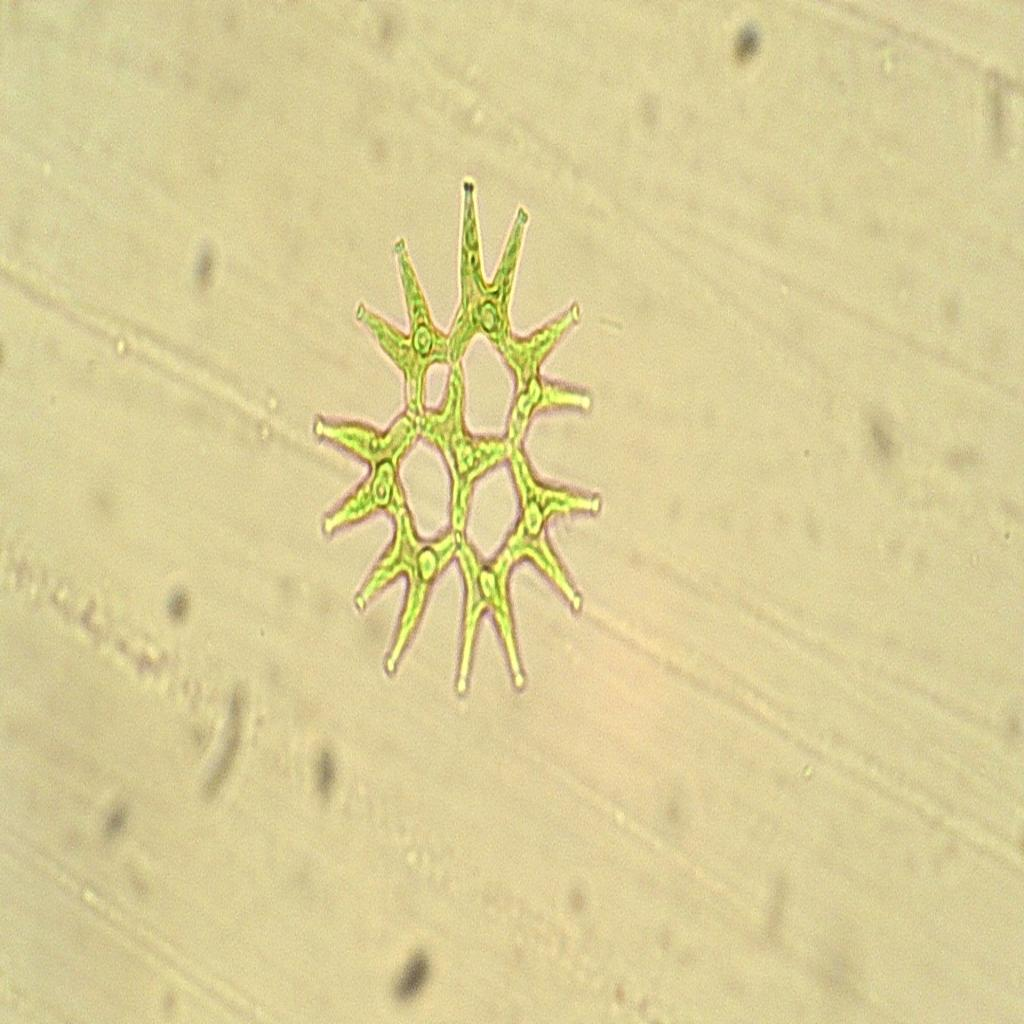Pediastrum_CTH: (303, 150, 607, 718)
